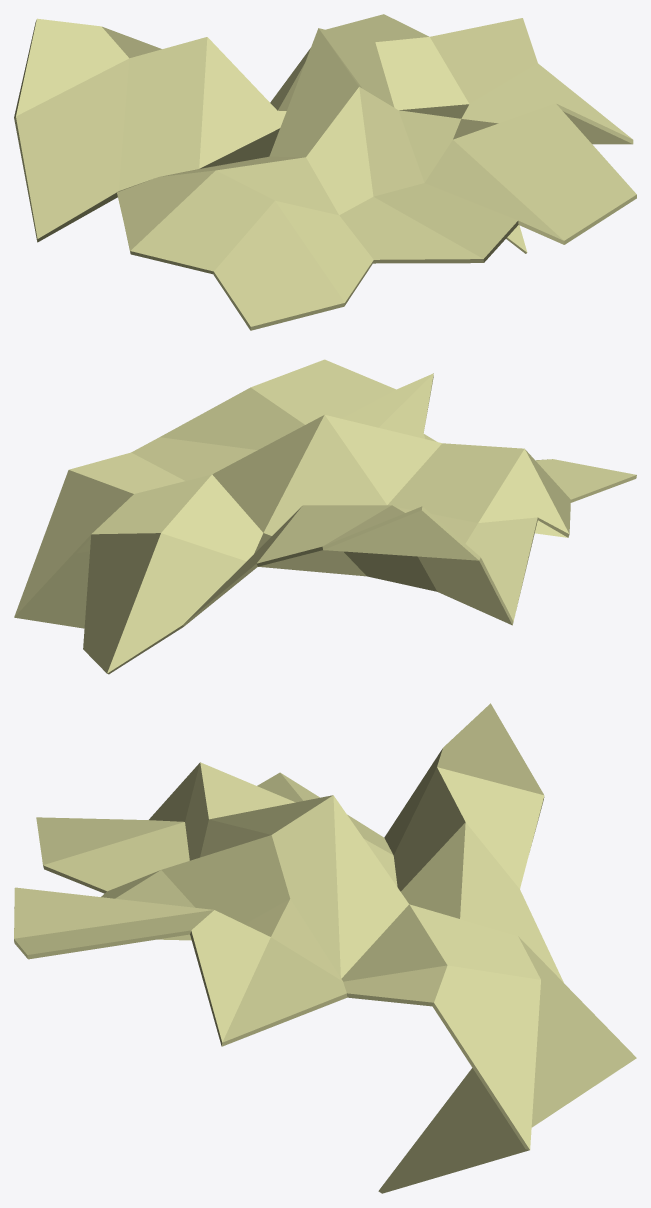
Rendered from Paper2.fbx.
The picture shows the model from 3 angles, top to bottom: view 1: azimuth 30°, elevation 25°; view 2: azimuth 150°, elevation 25°; view 3: azimuth 270°, elevation 25°; orthographic projection. The views are drawn at different scales.
Visible parts, largest first — view 1: Plane.001; view 2: Plane.001; view 3: Plane.001.
Part boxes in pixels (x1,y1,x2,y2): Plane.001: (14,14,636,330); Plane.001: (14,359,636,674); Plane.001: (14,703,636,1193).
Bounding box in the file's own units: 1536 × 839 × 1637.
